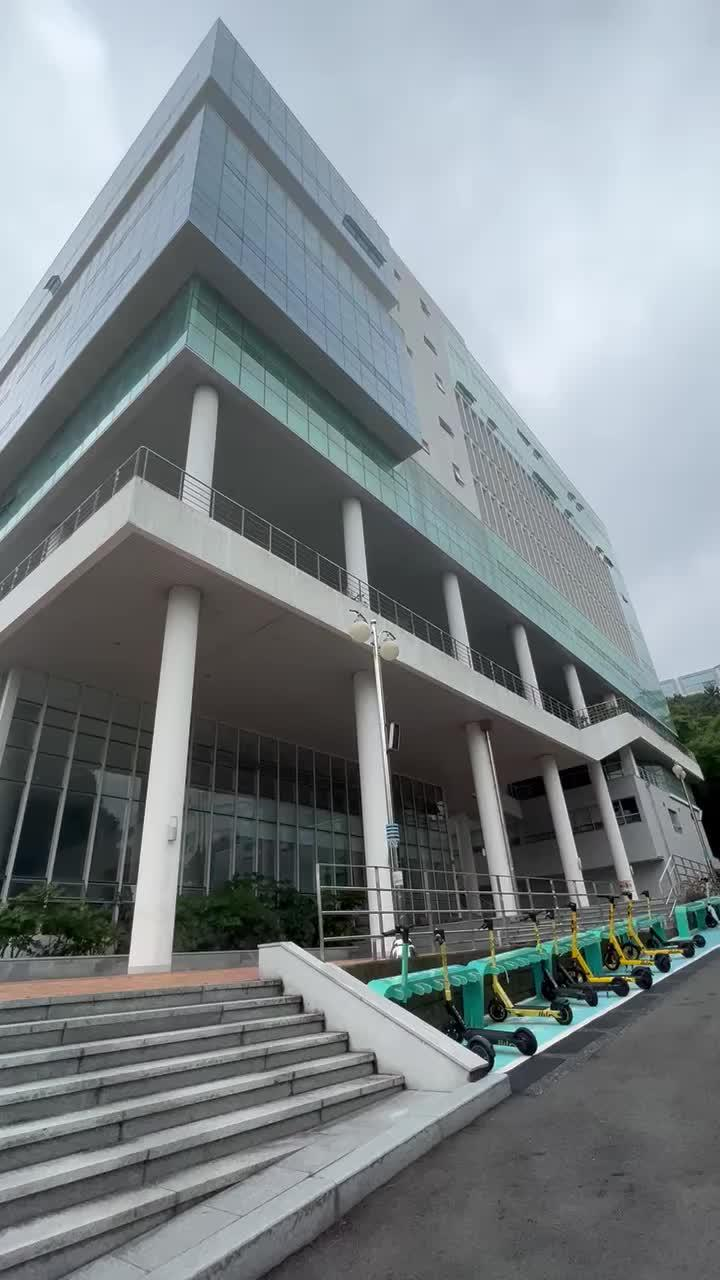building: (12, 88, 720, 906)
